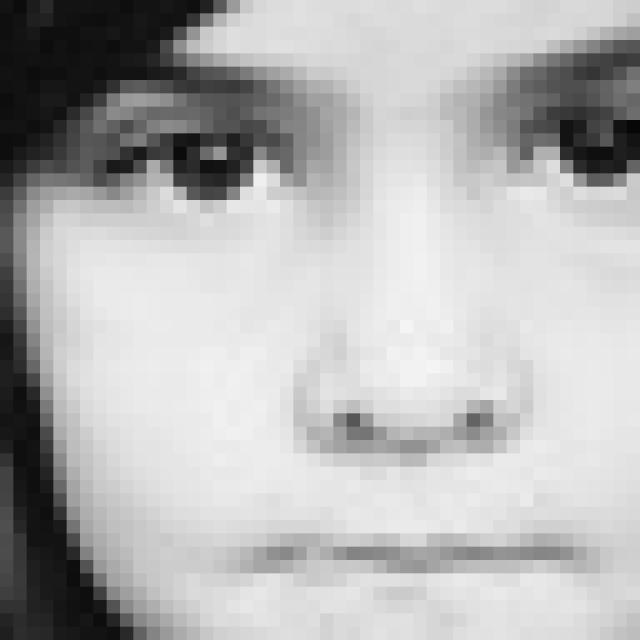neutral: (90, 40, 640, 619)
